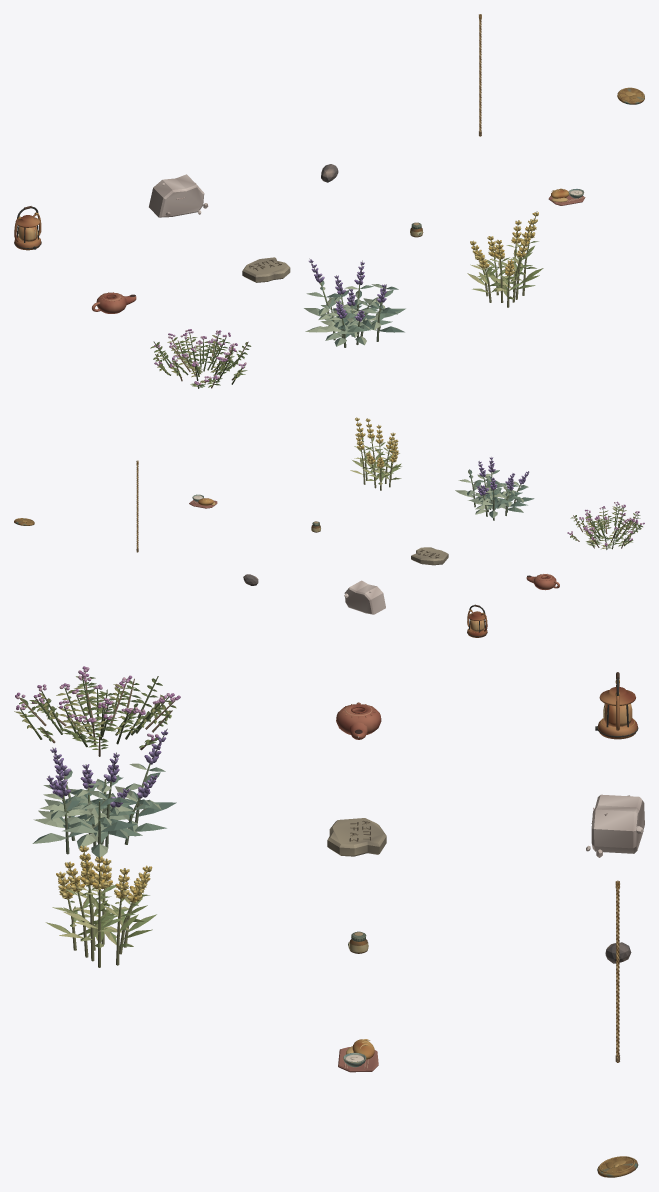
The model's file is field-props.glb.
3 views of the same model, one above another, from view 1: azimuth 30°, elevation 25°; view 2: azimuth 150°, elevation 25°; view 3: azimuth 270°, elevation 25° (orthographic). The views are drawn at different scales.
Parts seen in each view (by area): view 1: Wild sage foliage, Wild thyme foliage, Salt lick mesh, Mountain tea foliage, Mountain tea flowering tips, Inscribed fragment mesh, Wild sage flowering tips, Copper body and guards, Wild thyme flowering tips, Clay oil lamp mesh; view 2: Wild sage foliage, Wild thyme foliage, Salt lick mesh, Mountain tea foliage, Mountain tea flowering tips, Inscribed fragment mesh, Wild sage flowering tips, Copper body and guards, Wild thyme flowering tips, Clay oil lamp mesh; view 3: Wild sage foliage, Wild thyme foliage, Mountain tea foliage, Salt lick mesh, Mountain tea flowering tips, Inscribed fragment mesh, Wild sage flowering tips, Copper body and guards, Clay oil lamp mesh, Wild thyme flowering tips, Bread and yoghurt mesh, Braided line.
Part boxes in pixels (x1,y1,x2,y2): Wild sage foliage: (304,281,405,347); Wild thyme foliage: (150,334,251,388); Salt lick mesh: (149,174,208,217); Mountain tea foliage: (467,237,543,307); Mountain tea flowering tips: (470,211,538,275); Inscribed fragment mesh: (242,257,290,282); Wild sage flowering tips: (308,258,386,321); Copper body and guards: (14,206,41,250); Wild thyme flowering tips: (154,329,246,385); Clay oil lamp mesh: (92,292,136,313); Wild sage foliage: (455,469,534,520); Wild thyme foliage: (570,505,642,549); Salt lick mesh: (344,580,385,614); Mountain tea foliage: (350,437,401,490); Mountain tea flowering tips: (355,417,398,468); Inscribed fragment mesh: (411,547,448,565); Wild sage flowering tips: (476,457,529,495); Copper body and guards: (467,604,487,637); Wild thyme flowering tips: (567,501,644,546); Clay oil lamp mesh: (526,574,559,590); Wild sage foliage: (32,763,176,857); Wild thyme foliage: (14,672,176,756); Mountain tea foliage: (45,885,156,967); Salt lick mesh: (586,794,644,857); Mountain tea flowering tips: (56,845,152,902); Inscribed fragment mesh: (327,818,386,856); Wild sage flowering tips: (46,728,167,807); Copper body and guards: (595,672,638,739); Clay oil lamp mesh: (336,702,381,739); Wild thyme flowering tips: (15,666,180,740); Bread and yoghurt mesh: (338,1039,378,1072); Braided line: (615,880,619,1062).
Size of the model in its own units: 5.65 by 1.06 by 3.17.
